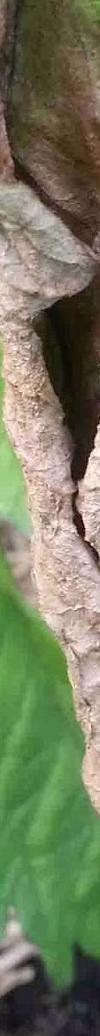Tomato leaf late blight: (0, 0, 100, 1023)
